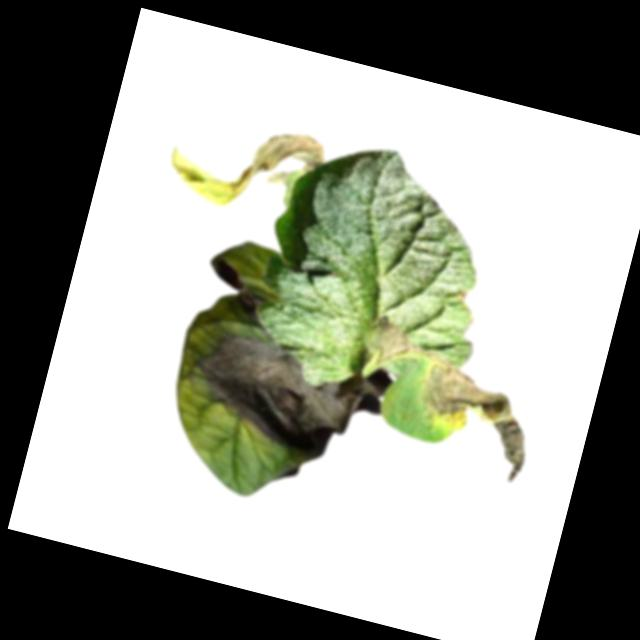Late_blight: (182, 327, 394, 472), (159, 100, 329, 229), (405, 357, 543, 486), (367, 318, 416, 368)
healthy: (238, 126, 516, 422)
